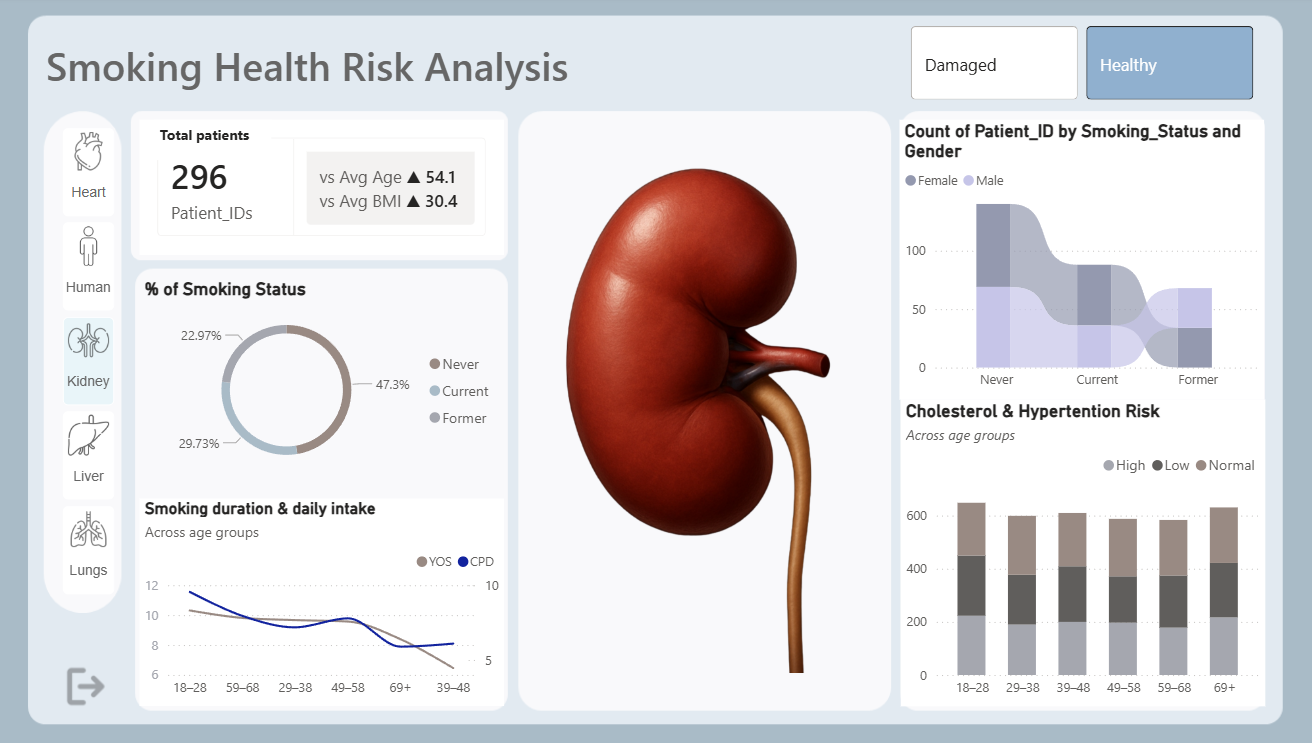

The page's visual inventory and layout, read from the dashboard file:
{"tool":"powerbi","page":{"name":"Page 1","canvas":[1280,720],"ordinal":0},"visuals":[{"type":"cardVisual","fields":{"Data":["CountNonNull(health_dataset.Patient_ID)"]},"box":[145.5,118,347.2,129],"z":0},{"type":"advancedSlicerVisual","fields":{"Values":["condition.Organ_Condition"]},"box":[875.5,23.3,336.2,81],"z":1},{"type":"ChicletSlicer1448559807354","fields":{"Category":["Organs.Organ"],"Image":["Organs.Icon_URL"]},"box":[64.5,118,70,465.2],"z":2},{"type":"image","box":[511.8,118,347.2,558.5],"z":3},{"type":"donutChart","title":"% of Smoking Status","fields":{"Category":["health_dataset.Smoking_Status"],"Y":["CountNonNull(health_dataset.Smoking_Status)"]},"box":[145.5,269,347.2,193.5],"z":4},{"type":"lineChart","title":"Smoking duration & daily intake ","fields":{"Category":["health_dataset.Age Group"],"Y":["Avg(health_dataset.Years_of_Smoking)"],"Y2":["Avg(health_dataset.Cigarettes_Per_Day)"]},"box":[145.5,478.9,347.2,197.6],"z":5},{"type":"ribbonChart","fields":{"Category":["health_dataset.Smoking_Status"],"Y":["CountNonNull(health_dataset.Patient_ID)"],"Series":["health_dataset.Gender"]},"box":[868.6,118,347.2,266.2],"z":6},{"type":"columnChart","title":"Cholesterol & Hypertention Risk","fields":{"Category":["health_dataset.Age Group"],"Y":["Avg(health_dataset.Cholesterol_Level)"],"Series":["health_dataset.BP_Risk"]},"box":[870,384.2,347.2,292.3],"z":7},{"type":"textbox","box":[159.2,118,111.1,38.4],"z":8},{"type":"textbox","box":[50.8,35.7,668.3,68.6],"z":9}]}

Visuals, with their boxes in screenshot pixels (x1, y1, x2, y2), scaled from the page's 1280x720 canvas onto the 1312x743 screenshot:
cardVisual - CountNonNull(health_dataset.Patient_ID): <region>149, 122, 505, 255</region>
advancedSlicerVisual - condition.Organ_Condition: <region>897, 24, 1242, 108</region>
ChicletSlicer1448559807354 - Organs.Organ x Organs.Icon_URL: <region>66, 122, 138, 602</region>
image: <region>525, 122, 880, 698</region>
"% of Smoking Status" donutChart: <region>149, 278, 505, 477</region>
"Smoking duration & daily intake " lineChart: <region>149, 494, 505, 698</region>
ribbonChart - health_dataset.Smoking_Status x CountNonNull(health_dataset.Patient_ID): <region>890, 122, 1246, 396</region>
"Cholesterol & Hypertention Risk" columnChart: <region>892, 396, 1248, 698</region>
textbox: <region>163, 122, 277, 161</region>
textbox: <region>52, 37, 737, 108</region>
